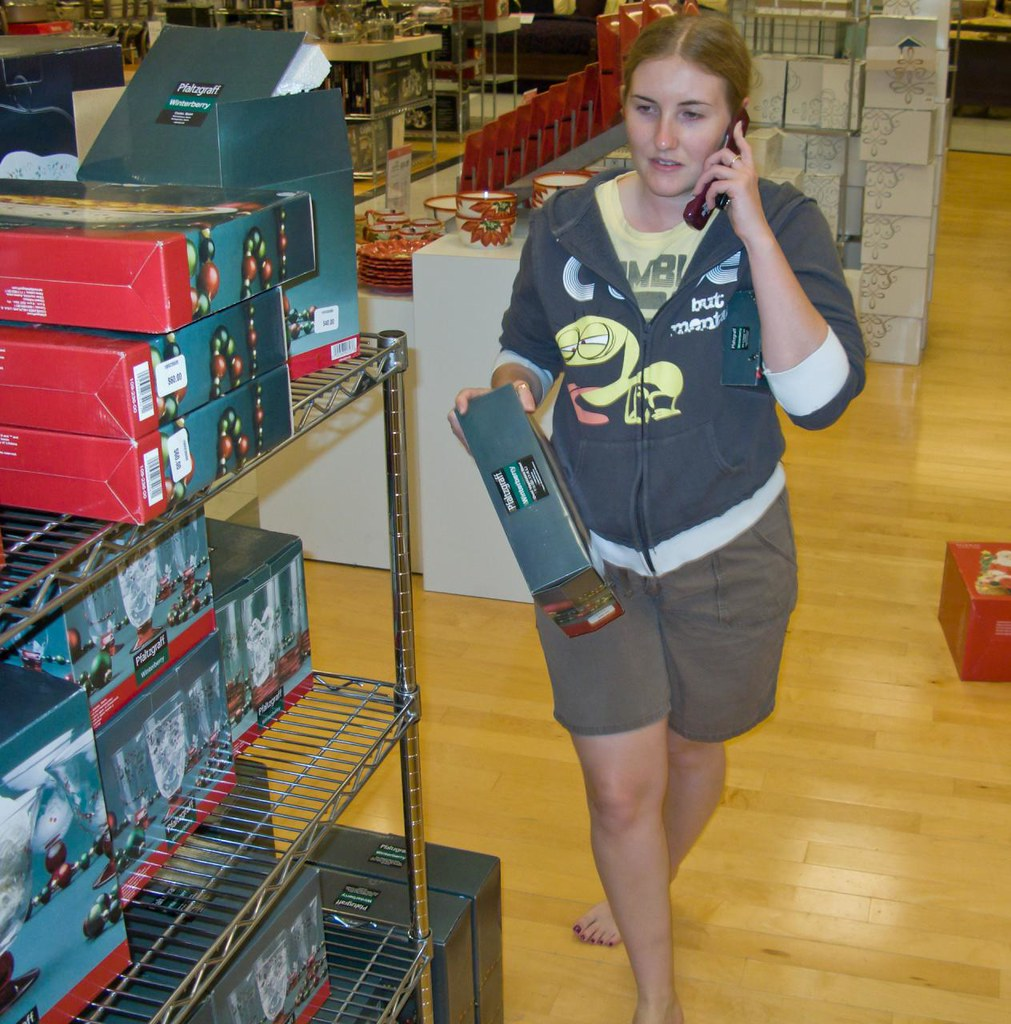phone: (701, 129, 769, 237)
talk: (616, 67, 794, 283)
